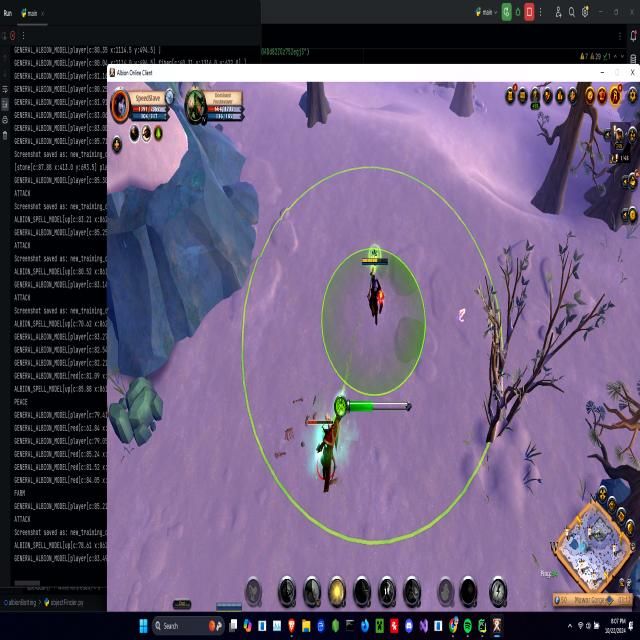ore: (304, 408, 343, 493)
red: (360, 254, 390, 327)
tree: (108, 372, 166, 451)
